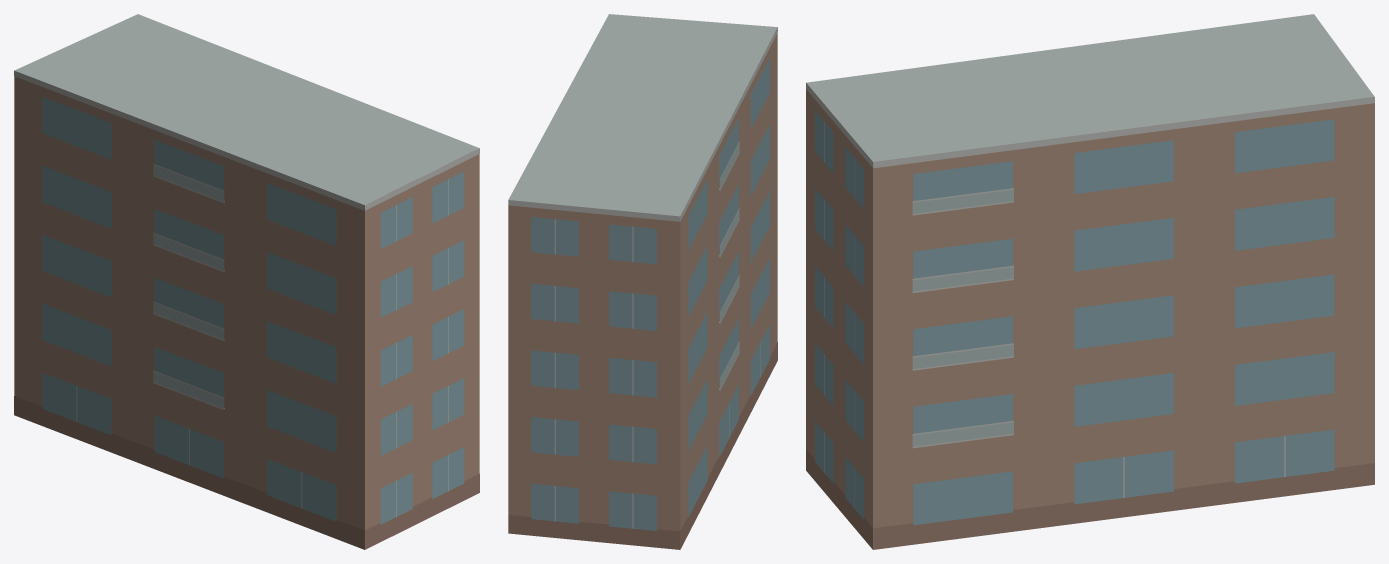
The model's file is survey-upis-32621757.glb.
3 views of the same model, side by side, from view 1: azimuth 30°, elevation 25°; view 2: azimuth 150°, elevation 25°; view 3: azimuth 270°, elevation 25° (orthographic). The views are drawn at different scales.
Parts seen in each view (by area): view 1: survey-upis-32621757.tmp; view 2: survey-upis-32621757.tmp; view 3: survey-upis-32621757.tmp.
Boxes of the visible parts, left/top/right/bottom form: survey-upis-32621757.tmp: left=14, top=14, right=479, bottom=549; survey-upis-32621757.tmp: left=508, top=14, right=777, bottom=549; survey-upis-32621757.tmp: left=806, top=14, right=1374, bottom=549.
Size of the model in its own units: 12.29 by 15 by 19.94.
